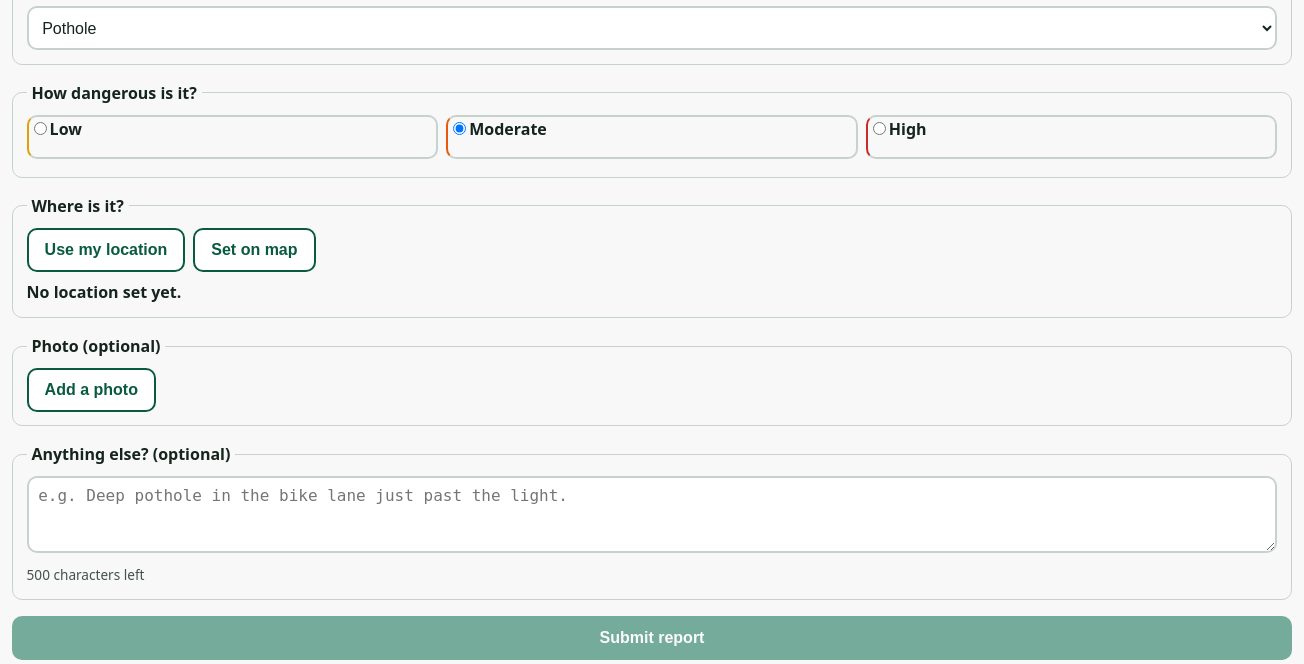
it: ReportForm › says the confirmation counted when the caller reports it did
Click the button "Use my location" at (106, 250), box [27,228,185,272]
(page scrolled)
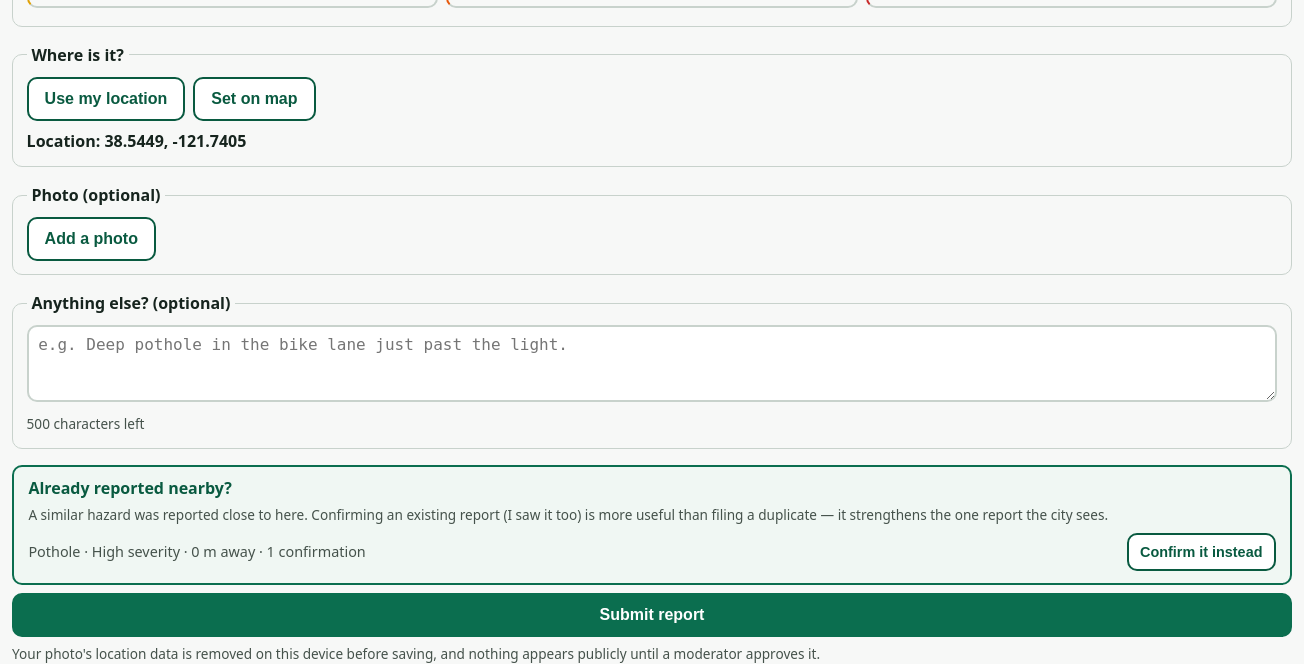
Expected: the element named "possible duplicates nearby" is shown, [12,465,1292,585]
Click the button "Confirm it instead" at (1201, 552), box [1127,533,1276,571]
(page scrolled)
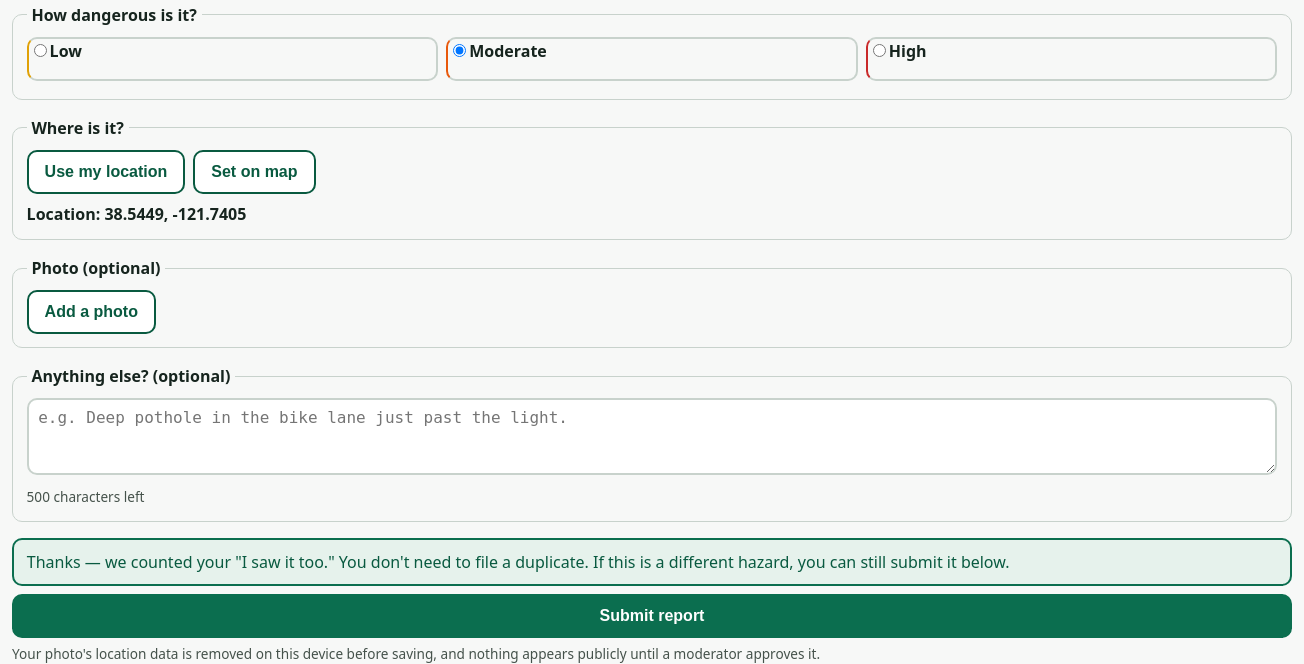
Expected: the text "we counted your" is shown, [27,551,1010,573]
